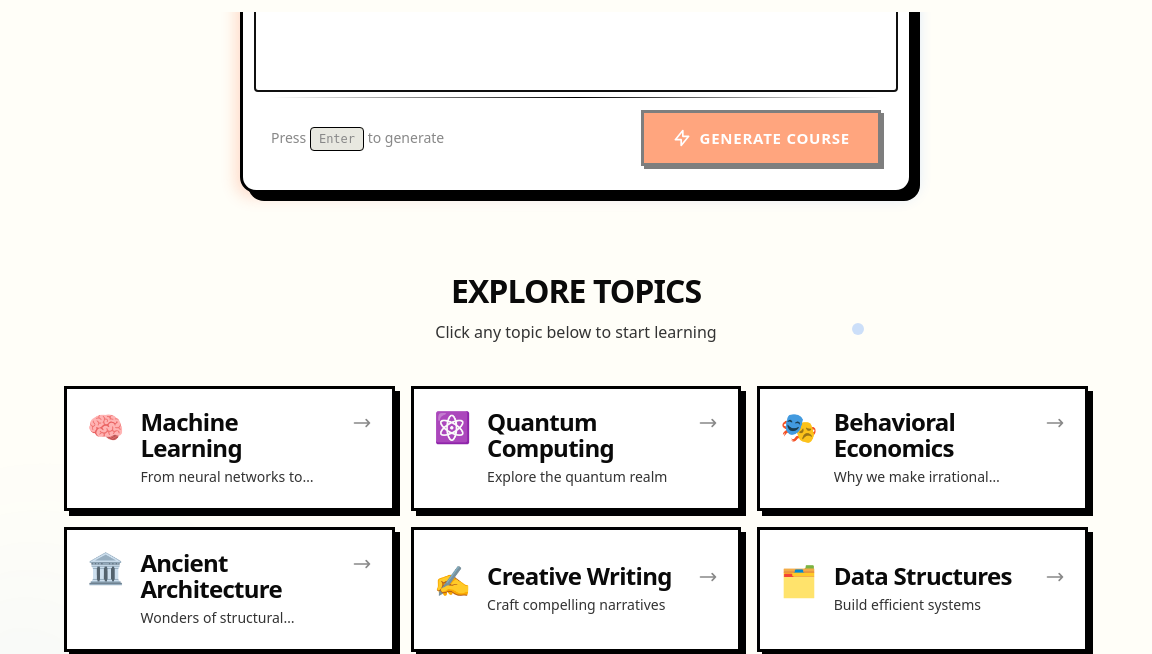
Scenario: Home Page - Course Generation Flow › should fill topic when clicking example suggestion
(page scrolled)
Click the heading "Machine Learning": (191, 435) [140, 405, 242, 464]
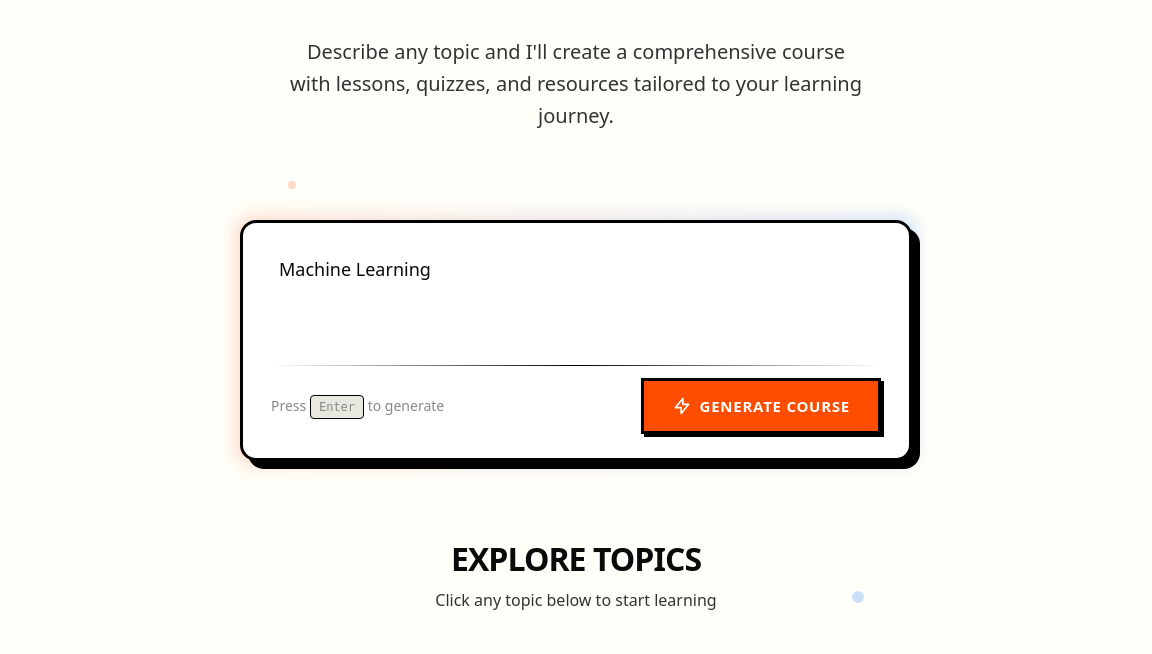
Expected: the text box with placeholder "What do you want to learn today?" holds "Machine Learning", [255, 235, 897, 359]
